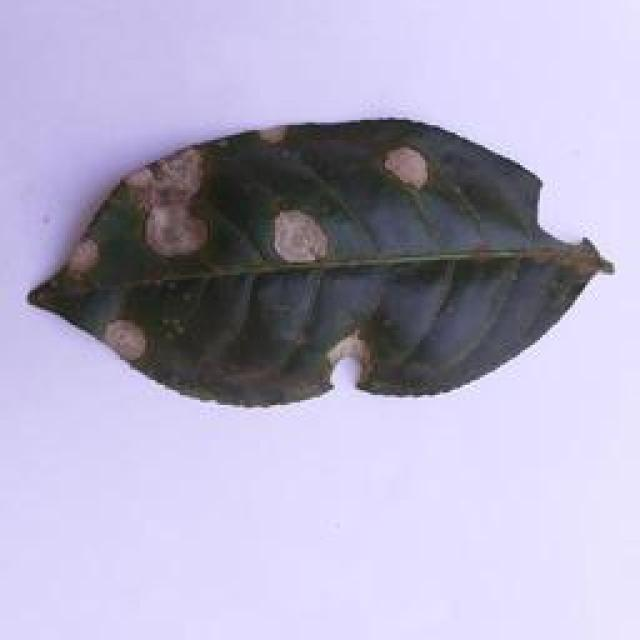Gray Blight: (28, 110, 621, 414)
